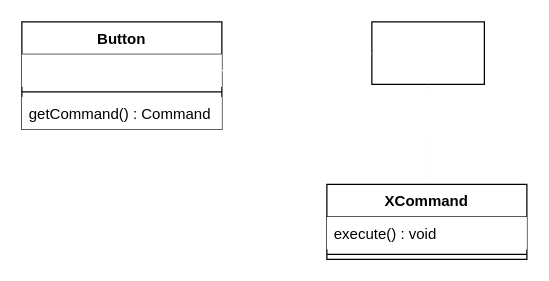
Some shapes in this 549 by 281 pixel diagram are drawn without their labels. Each missing label, with the centre of its shape:
command : Command: (121,70)
«interface» Command: (427,52)
